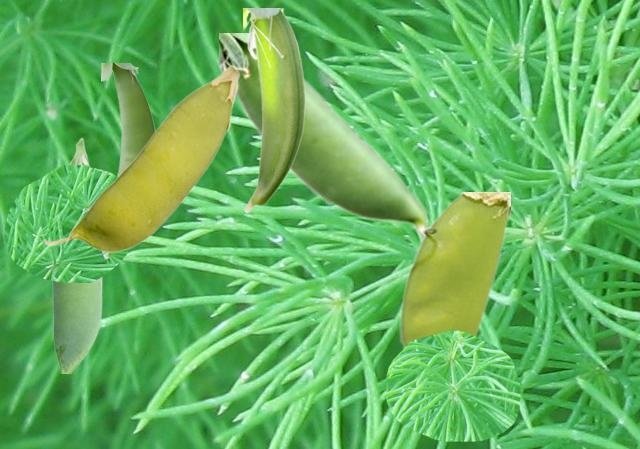pea: (219, 33, 431, 238), (43, 65, 239, 251), (399, 192, 509, 350), (243, 8, 307, 212), (51, 137, 101, 372), (101, 63, 155, 175)
